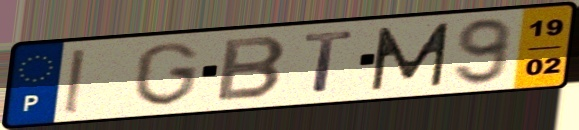9: (451, 16, 515, 87)
B: (213, 34, 291, 103)
G: (131, 39, 201, 108)
I: (60, 46, 88, 116)
M: (368, 20, 454, 93)
T: (302, 28, 358, 96)
